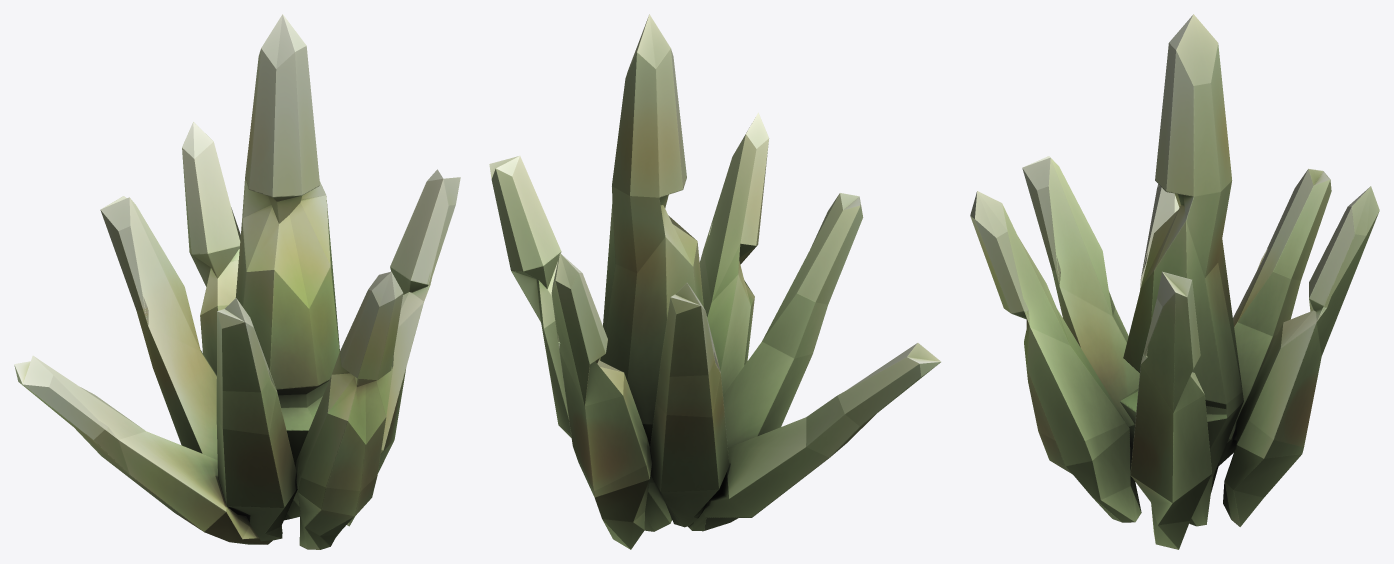
File: Crystal_61.fbx
The picture shows the model from 3 angles, left to right: view 1: azimuth 30°, elevation 25°; view 2: azimuth 150°, elevation 25°; view 3: azimuth 270°, elevation 25°; orthographic projection.
Visible parts, largest first — view 1: Crystal_61; view 2: Crystal_61; view 3: Crystal_61.
Boxes of the visible parts, left/top/right/bottom form: Crystal_61: left=14, top=14, right=460, bottom=549; Crystal_61: left=489, top=14, right=941, bottom=549; Crystal_61: left=970, top=14, right=1379, bottom=549.
Size of the model in its own units: 99.57 by 110 by 79.93.
